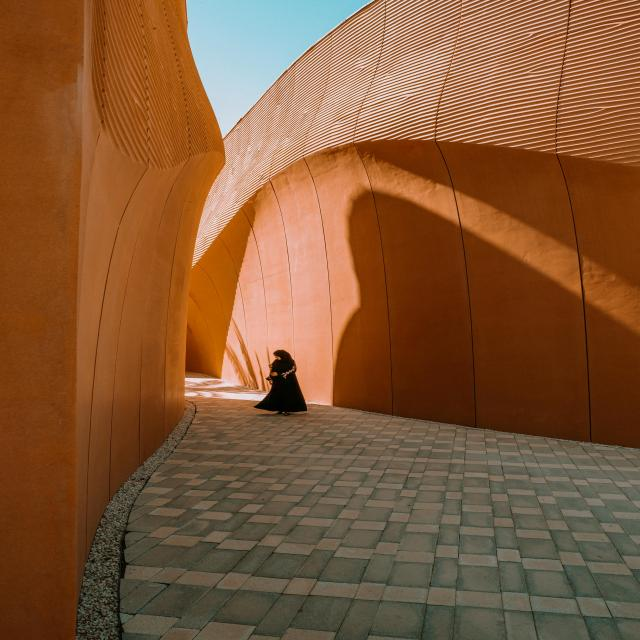stand: (263, 346, 314, 423)
